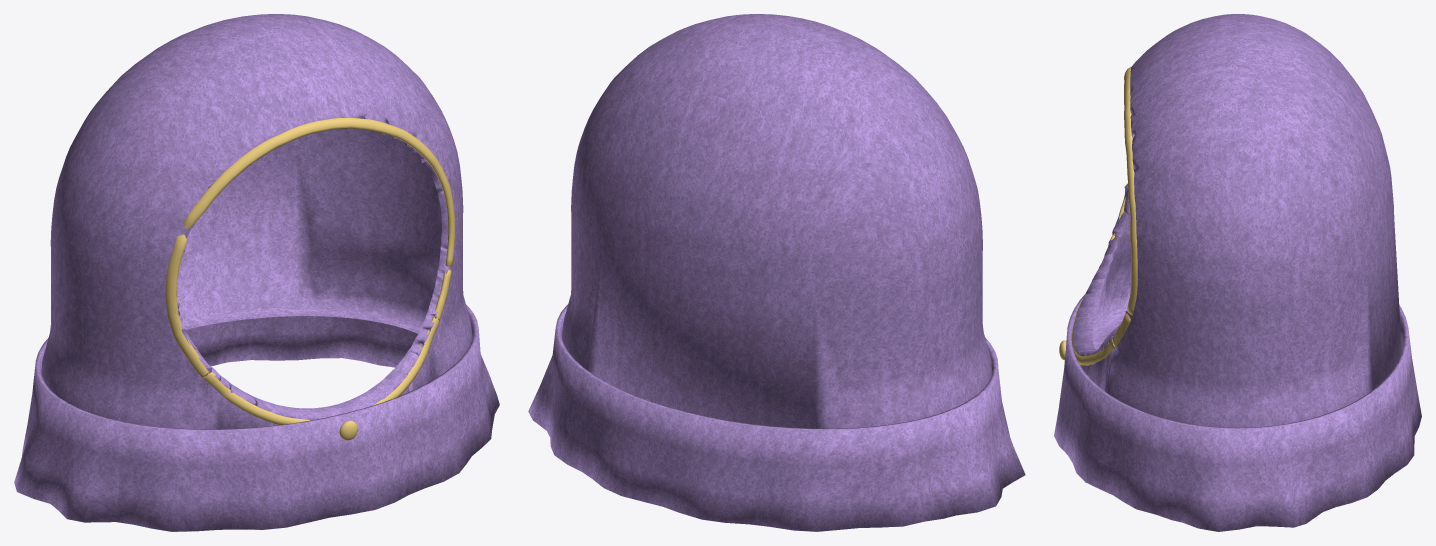
Rendered from hijab4.fbx.
3 renders of one model, left to right at view 1: azimuth 30°, elevation 25°; view 2: azimuth 150°, elevation 25°; view 3: azimuth 270°, elevation 25°, orthographic. The views are drawn at different scales.
Parts seen in each view (by area): view 1: hijab4; view 2: hijab4; view 3: hijab4.
Part boxes in pixels (bbox=[...]): hijab4: bbox=[14, 14, 499, 531]; hijab4: bbox=[528, 14, 1025, 531]; hijab4: bbox=[1054, 14, 1421, 531].
Bounding box in the file's own units: 1 × 0.8699 × 0.734.
2 materials, 1 textured.
